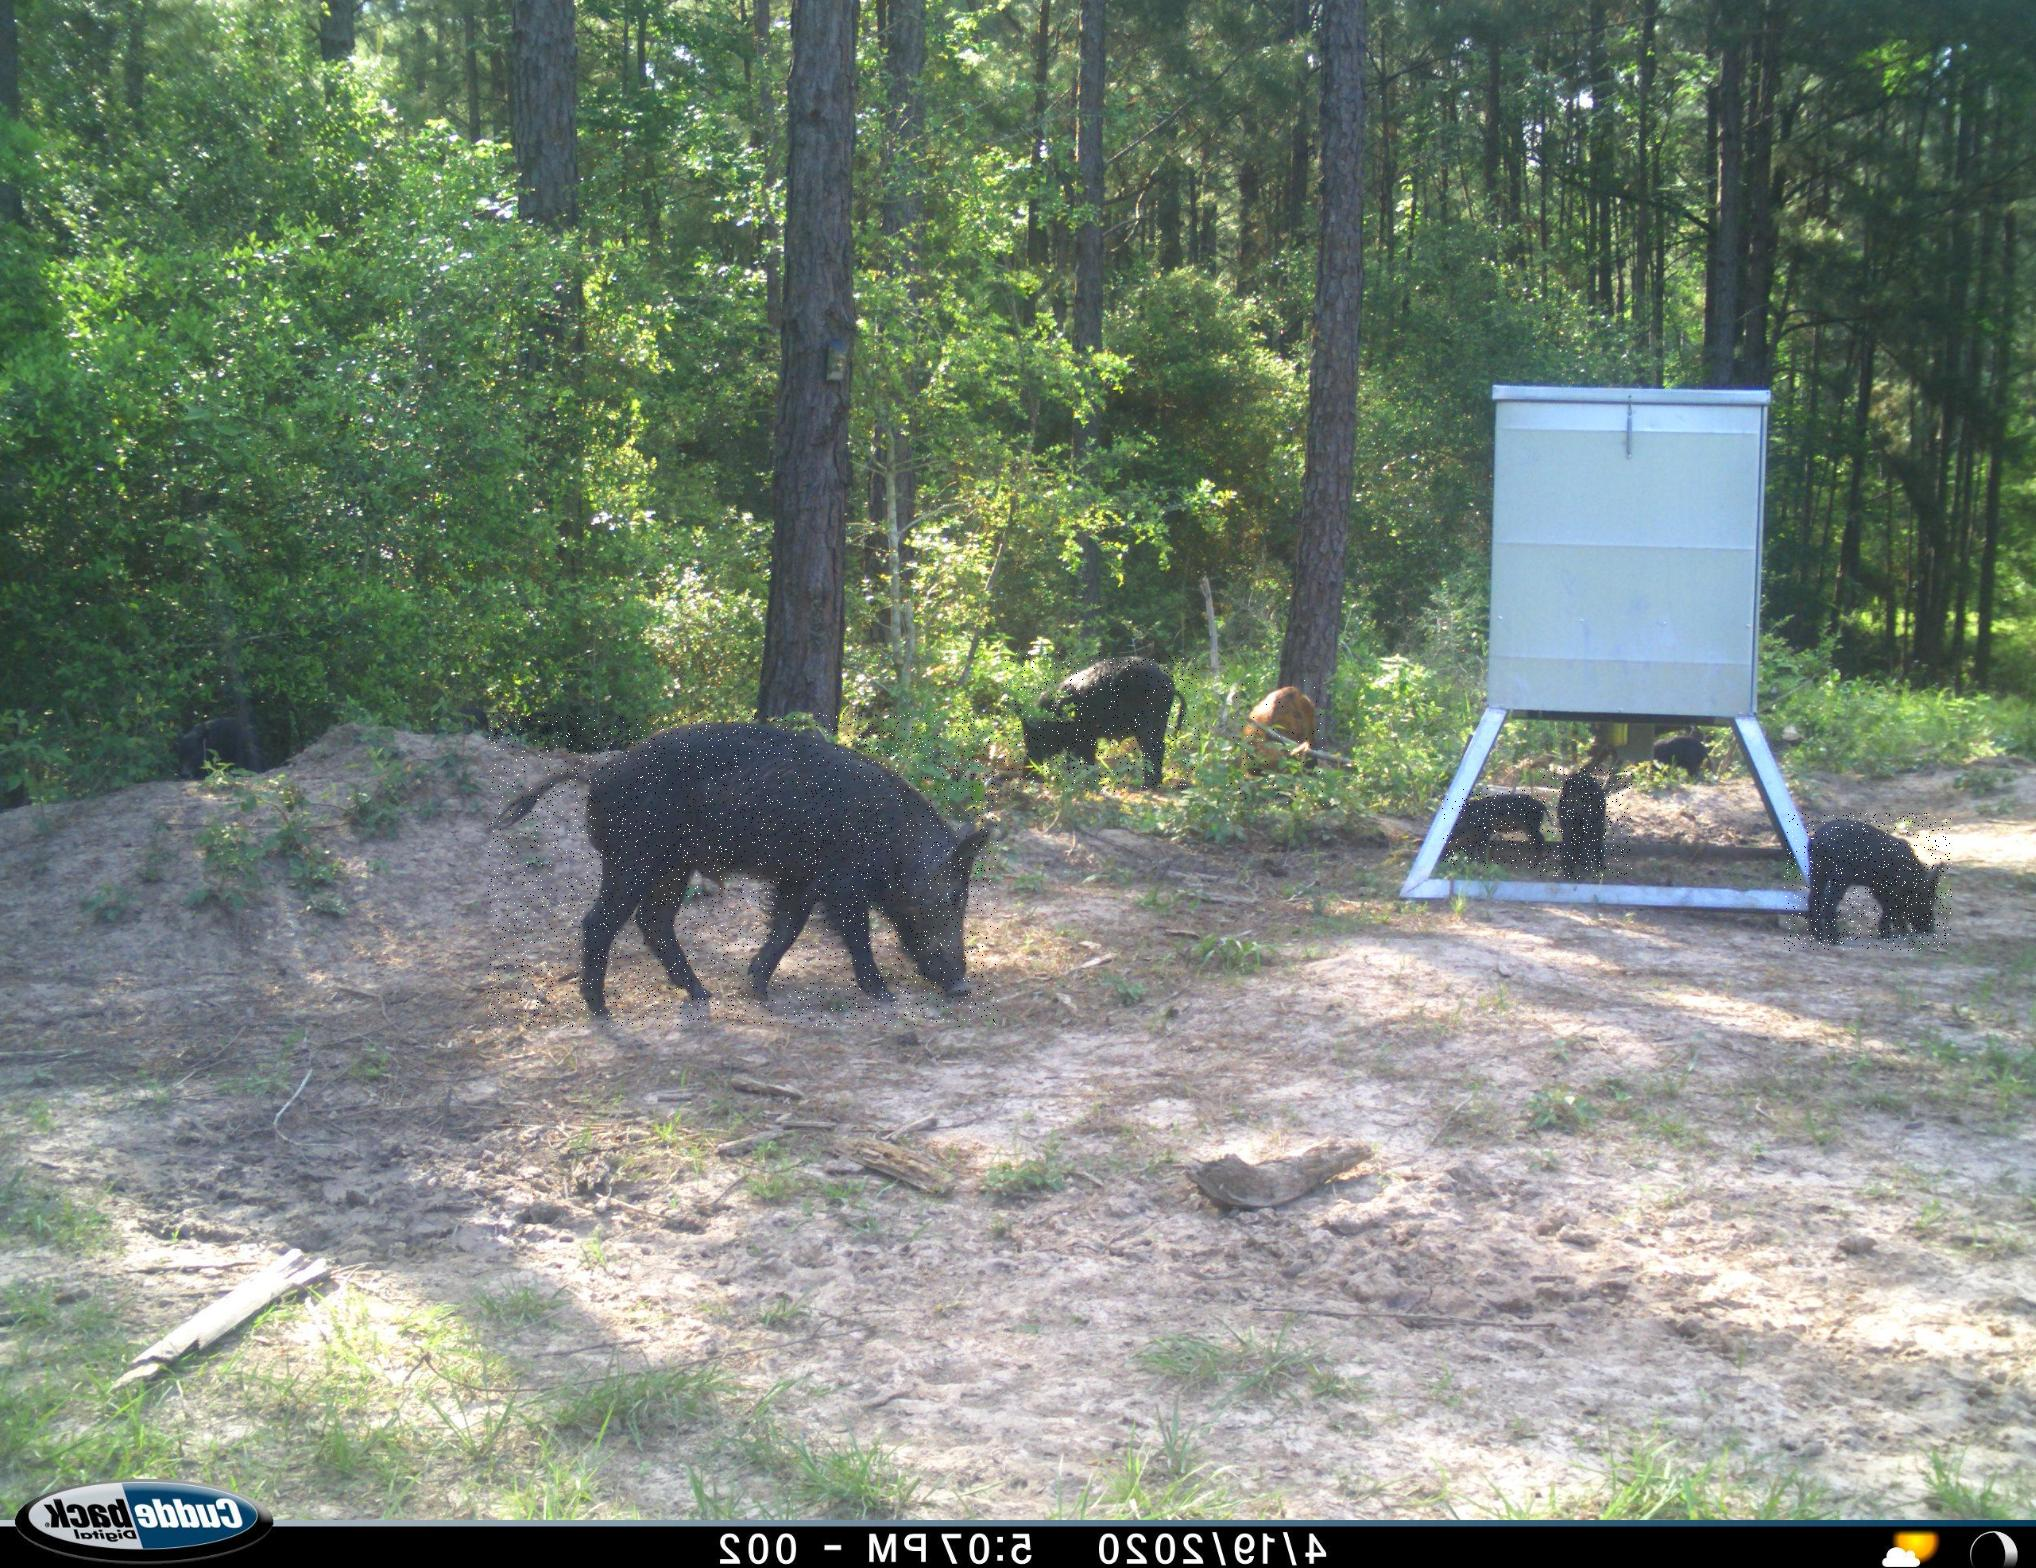Hog: (488, 713, 998, 1028), (1003, 652, 1201, 792), (1784, 814, 1952, 950), (1226, 680, 1324, 807), (1540, 768, 1632, 880), (1441, 787, 1550, 868)
